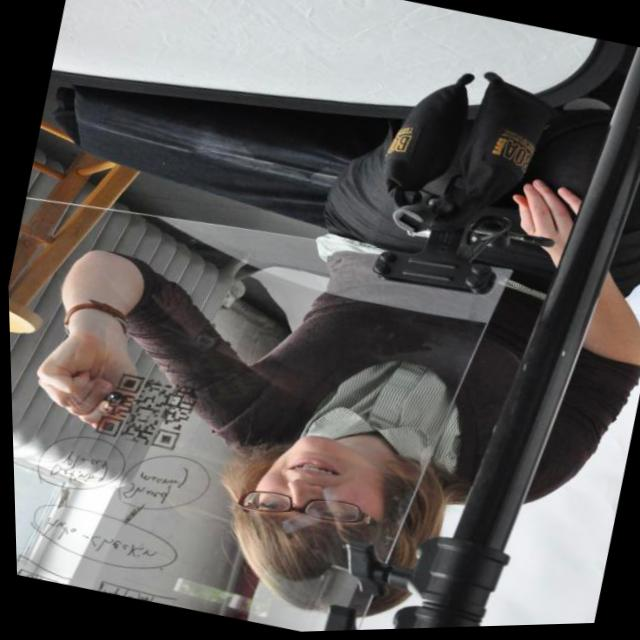qrcode: (91, 368, 200, 457)
